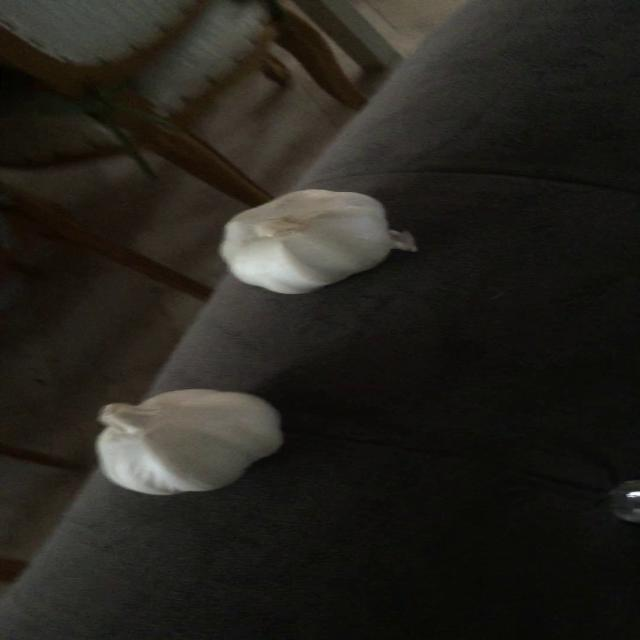garlic: (84, 383, 294, 498), (212, 183, 399, 300)
